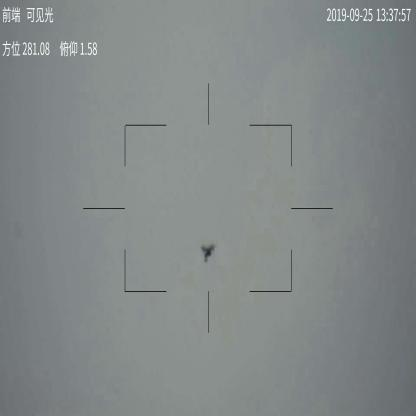uav: (199, 241, 219, 265)
